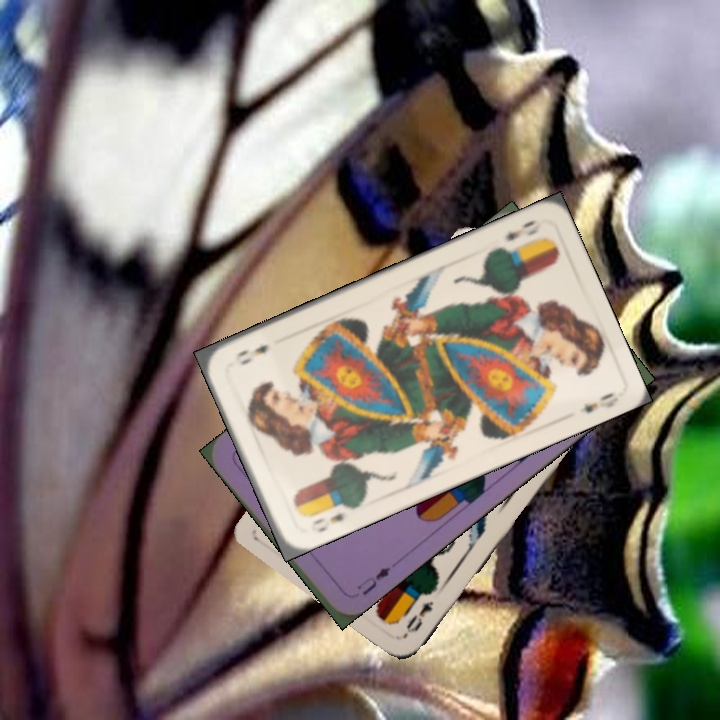EO: (400, 597, 437, 639), (501, 216, 544, 244), (308, 508, 348, 535)
EU: (352, 562, 394, 598)
